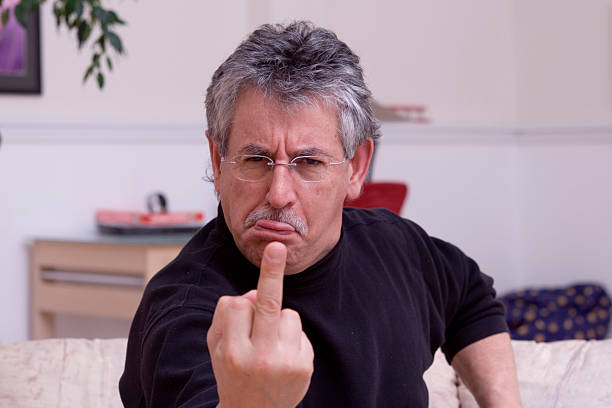insulting_gesture: (203, 240, 313, 408)
